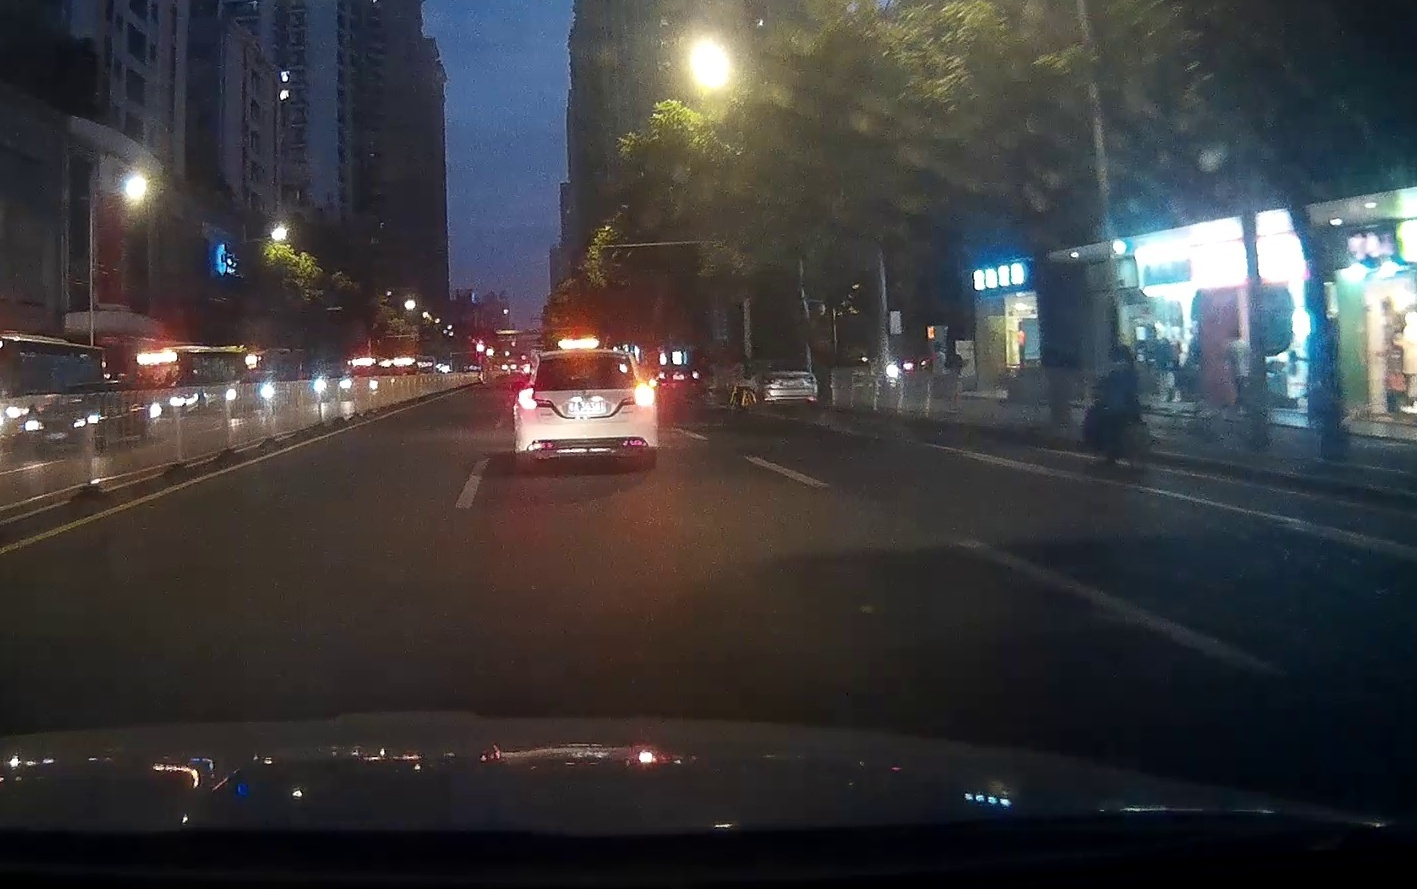L_light: (517, 386, 538, 410)
R_light: (634, 385, 655, 406)
T_light: (574, 356, 595, 359)
night-no: (513, 348, 659, 467)
